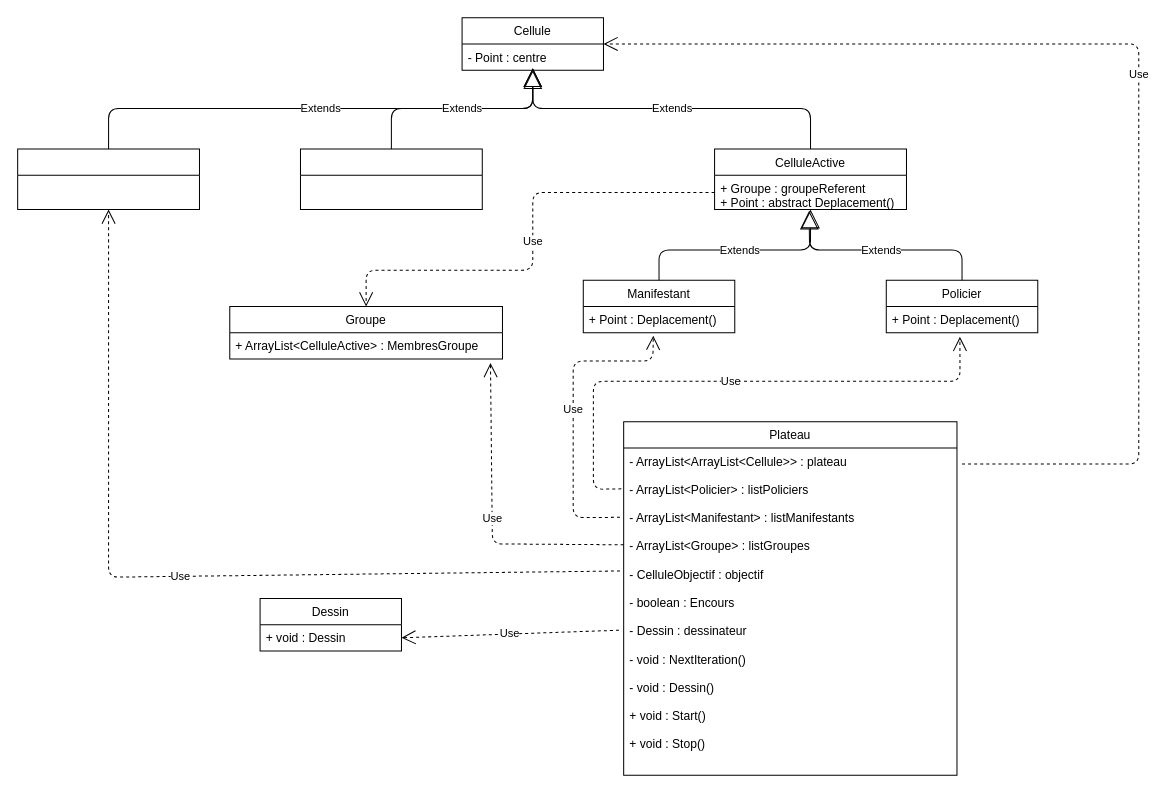
This 1171x796 diagram has some shape labels left out. The centre of each missing label's shape, as x and y in pixels:
"CelluleObjectif" belongs at (x=108, y=179).
"CelluleVide" belongs at (x=390, y=179).
